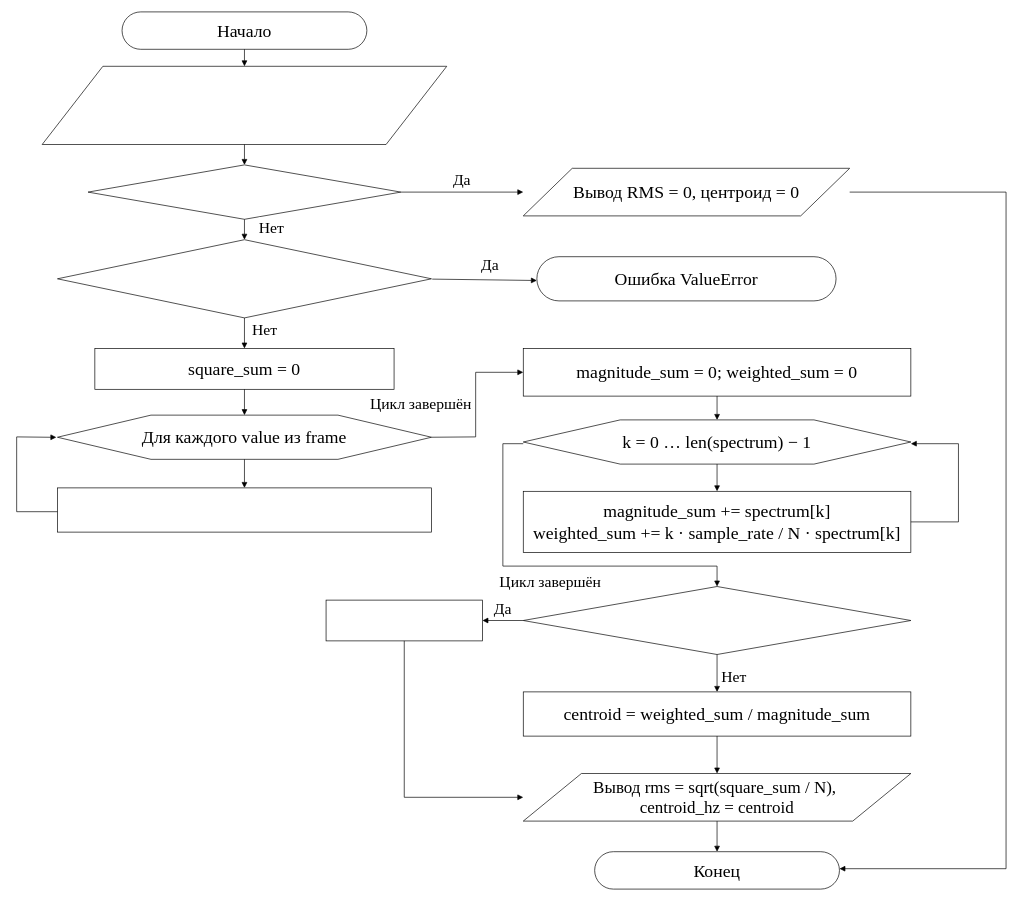
This 1023x901 diagram has some shape labels left out. Here are the shapes that lost their labels. From the top down, the centre of each, then its label:
At point 244,105: "Ввод frame, spectrum, fs = sample_rate N = len(frame); K = len(spectrum)".
At point 244,191: "N = 0?".
At point 244,278: "fs ≤ 0 или K ≠ N//2 + 1?".
At point 244,509: "square_sum += value · value".
At point 403,620: "centroid = 0".
At point 717,620: "magnitude_sum ≤ 1e-12?".
